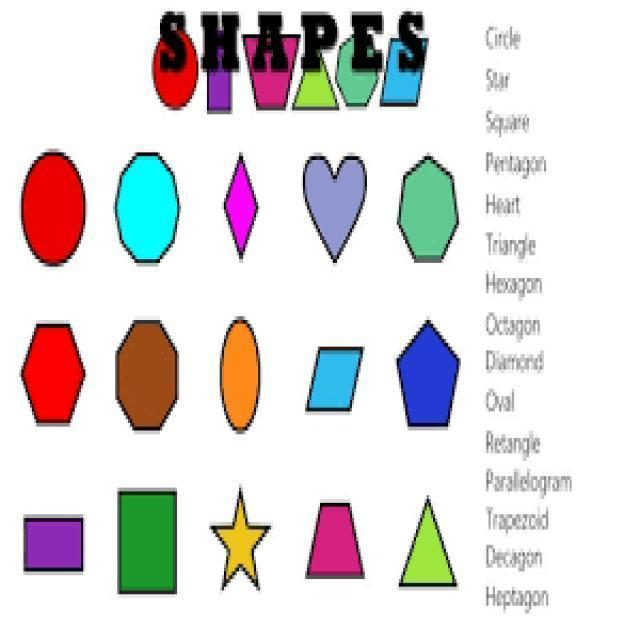circle: (10, 143, 97, 275), (205, 307, 285, 438), (146, 29, 203, 115)
square: (103, 482, 192, 608), (15, 504, 91, 584)
